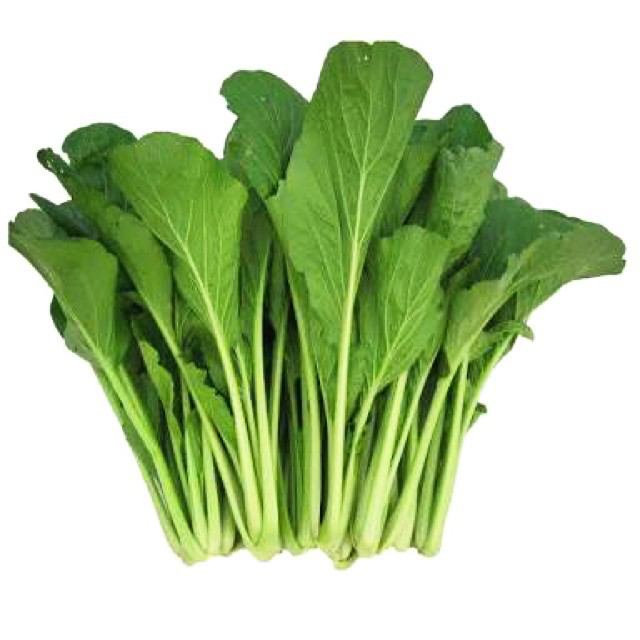Sawi: (23, 45, 621, 585)
